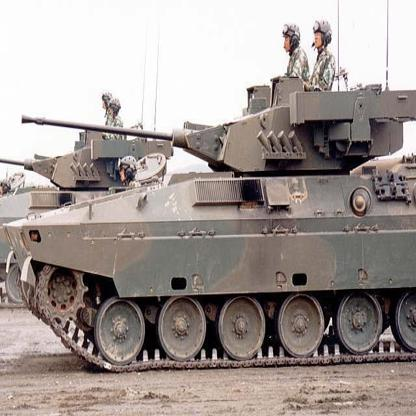Tank: (7, 69, 416, 378)
